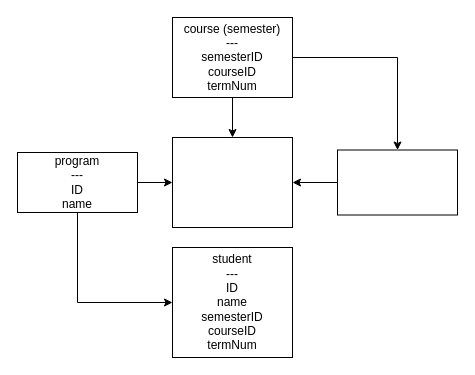
The diagram is 475 pixels wide and 375 high, and some of its shapes have lost their labels. Each missing label, with the centre of its shape:
"course (pre-req) --- courseID prereqID" belongs at pixel 397 182.
"course --- ID name pre-req" belongs at pixel 232 182.
